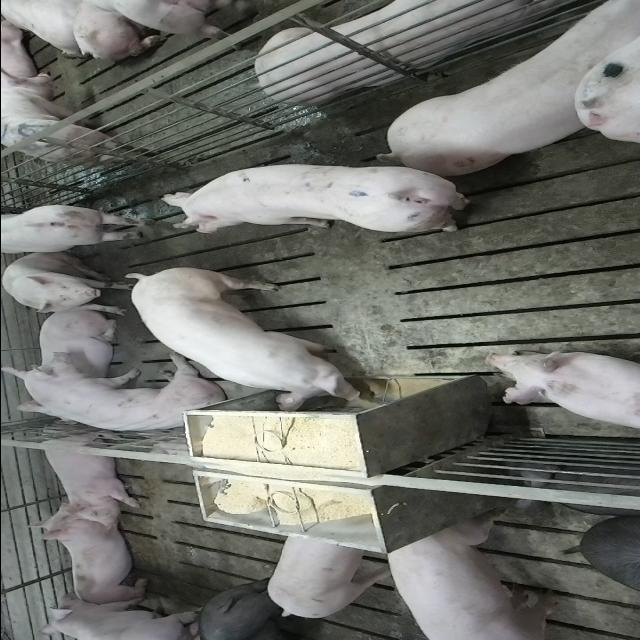Feeding: (129, 273, 374, 417)
Sitting: (5, 357, 232, 439), (1, 253, 127, 315)
Standing: (157, 161, 480, 236), (382, 519, 572, 639), (0, 70, 138, 172), (265, 535, 395, 621), (2, 202, 152, 256), (190, 584, 324, 640), (30, 598, 204, 640)
Sternal_lying: (250, 0, 579, 103), (24, 502, 148, 606), (484, 350, 640, 432), (25, 310, 127, 424), (30, 425, 142, 524)
